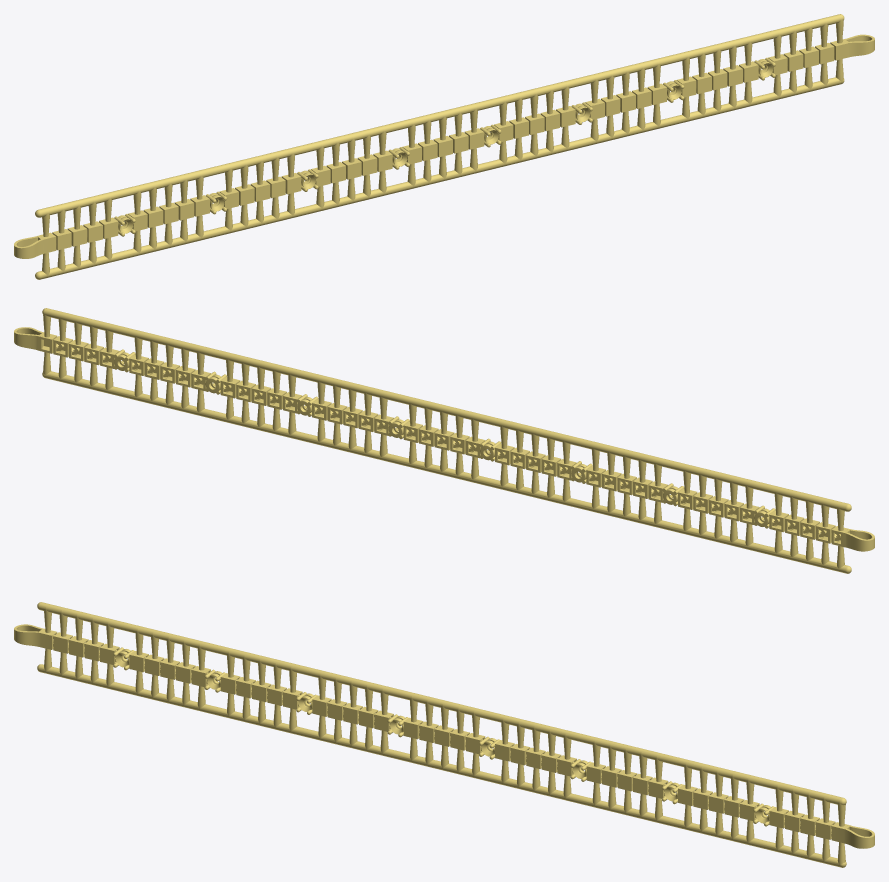
The model's file is yzn5-132.glb.
3 views of the same model, one above another, from view 1: azimuth 30°, elevation 25°; view 2: azimuth 150°, elevation 25°; view 3: azimuth 330°, elevation 25° (orthographic).
Visible parts, largest first — view 1: Renderer Node; view 2: Renderer Node; view 3: Renderer Node.
Boxes of the visible parts, x1,y1,x2,y2 form: Renderer Node: [14, 14, 874, 279]; Renderer Node: [14, 308, 874, 573]; Renderer Node: [14, 602, 874, 867].
Size of the model in its own units: 182 by 14.08 by 3.56.
